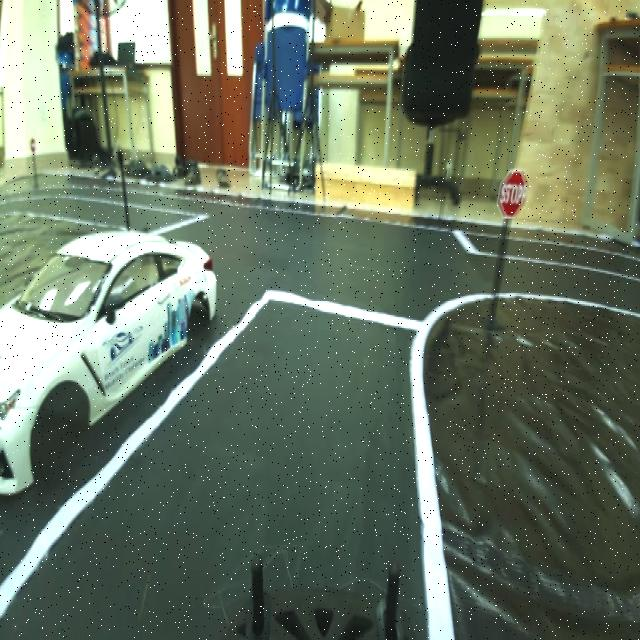car: (4, 242, 224, 498)
stop: (493, 162, 529, 230)
